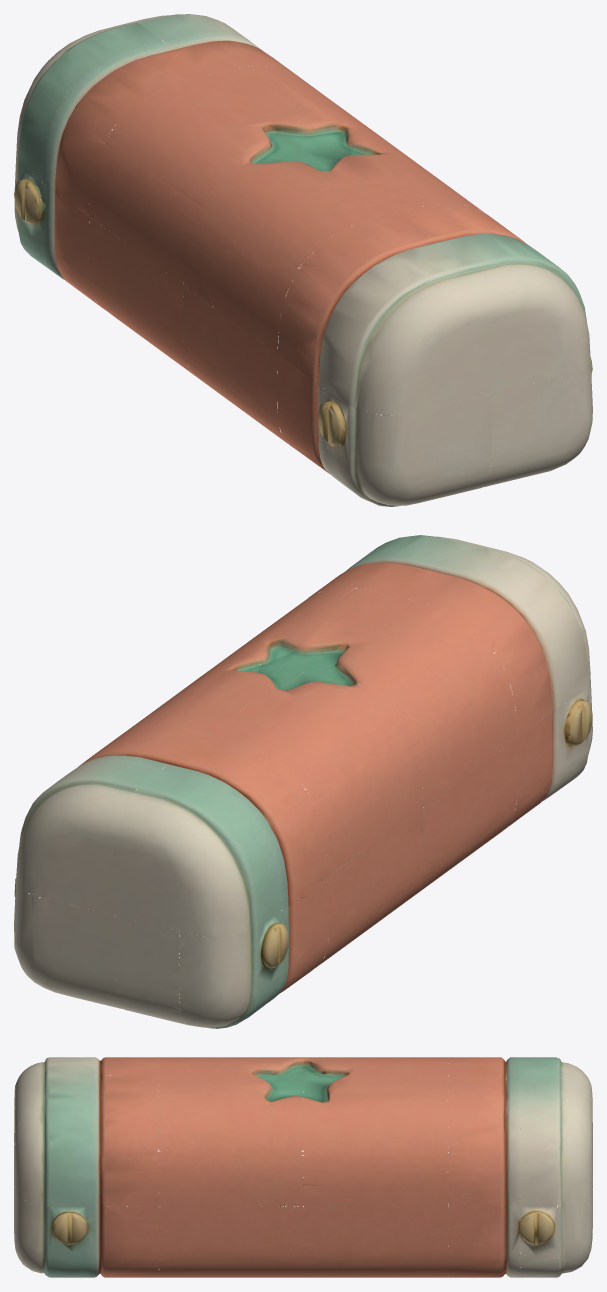
File: obstacle-capsule.glb
The picture shows the model from 3 angles, top to bottom: view 1: azimuth 30°, elevation 25°; view 2: azimuth 150°, elevation 25°; view 3: azimuth 270°, elevation 25°; orthographic projection. The views are drawn at different scales.
Visible parts, largest first — view 1: geometry_0; view 2: geometry_0; view 3: geometry_0.
Boxes of the visible parts, left/top/right/bottom form: geometry_0: left=14, top=14, right=592, bottom=506; geometry_0: left=14, top=535, right=592, bottom=1028; geometry_0: left=14, top=1057, right=592, bottom=1277.
Size of the model in its own units: 0.3945 by 0.3299 by 1.
1 material, 1 textured.
